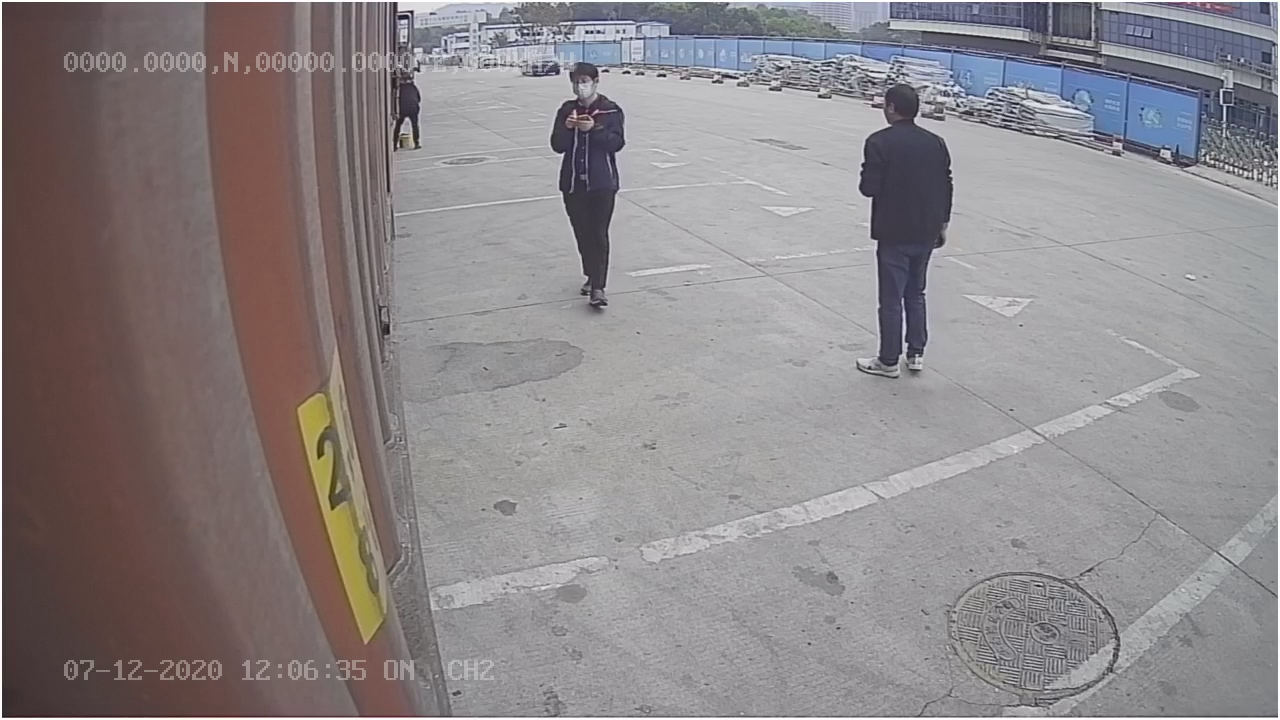person: (852, 80, 955, 380), (546, 59, 629, 314)
